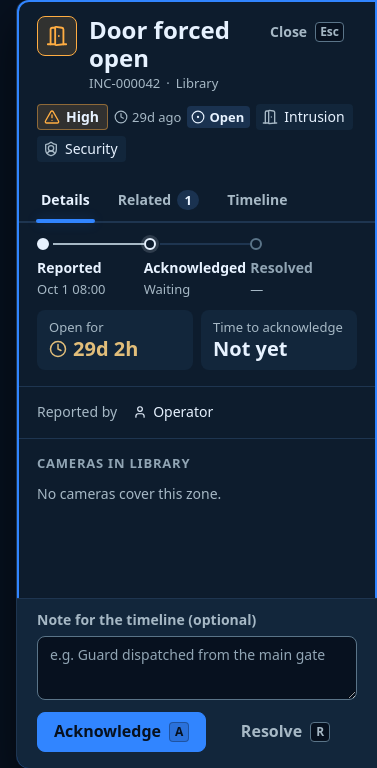
it: IncidentDetail › tabs › Related › counts the other active incidents of the zone and lists them
Click the tab "Related 1": [158, 200] box x1=106 y1=178 x2=211 y2=222
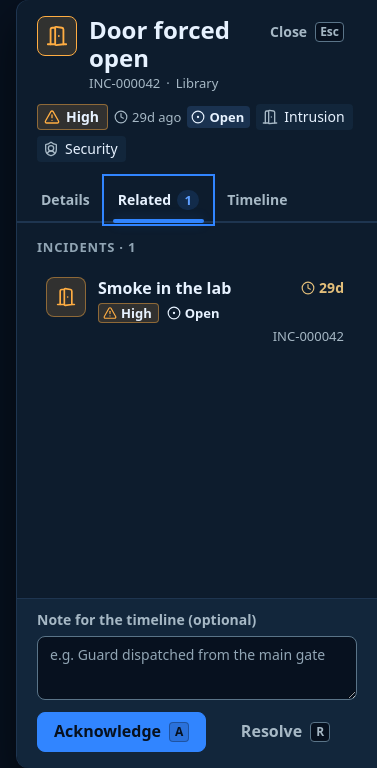
Now the heading "Incidents · 1" is shown, box x1=37 y1=238 x2=136 y2=256
Now the button "High Smoke in the lab 29d Open INC-000042" is shown, box x1=37 y1=268 x2=357 y2=354
